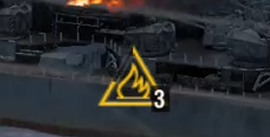3fire: (94, 73, 172, 115)
